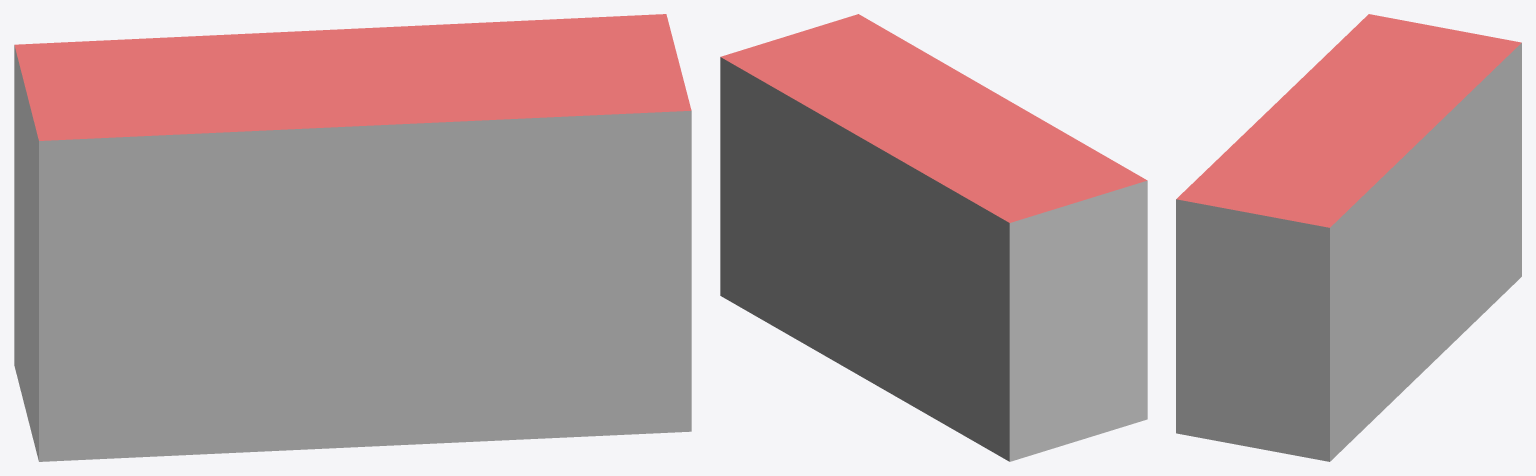
File: DEBY_LOD2_4906980.gltf
3 renders of one model, left to right at view 1: azimuth 30°, elevation 25°; view 2: azimuth 150°, elevation 25°; view 3: azimuth 270°, elevation 25°, orthographic. The views are drawn at different scales.
Visible parts, largest first — view 1: Z_UP; view 2: Z_UP; view 3: Z_UP.
Part boxes in pixels (left/top/right/bottom): Z_UP: left=14, top=14, right=691, bottom=461; Z_UP: left=720, top=14, right=1147, bottom=461; Z_UP: left=1176, top=14, right=1521, bottom=461.
Size of the model in its own units: 11.97 by 6.11 by 8.18.
